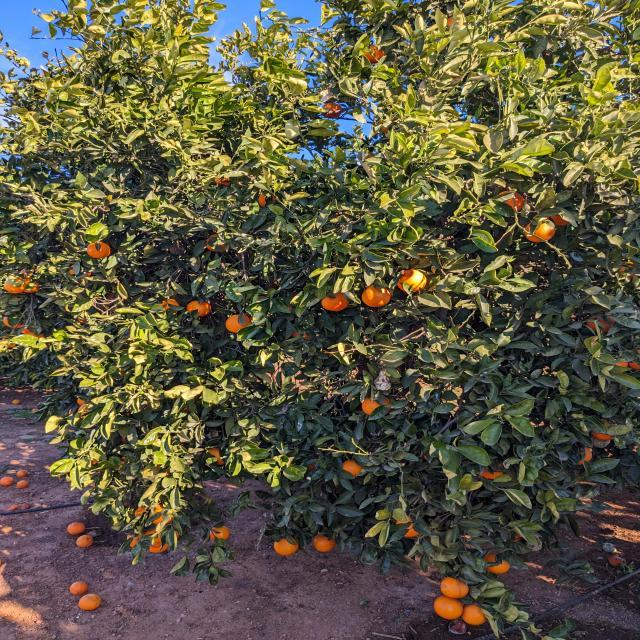Jeruk Sudah Matang: (523, 219, 554, 244), (438, 576, 469, 598), (436, 596, 464, 620), (205, 234, 234, 256), (362, 287, 390, 308), (592, 418, 618, 439), (398, 270, 424, 291), (362, 398, 390, 416), (484, 553, 509, 573), (273, 536, 298, 556), (85, 242, 111, 259), (464, 604, 484, 626), (152, 504, 172, 526), (320, 294, 346, 310), (68, 263, 94, 279), (4, 277, 27, 294), (498, 192, 522, 208), (313, 535, 335, 552), (227, 316, 250, 332), (187, 300, 210, 316), (144, 530, 166, 546), (342, 460, 362, 476), (210, 526, 230, 542), (364, 46, 384, 62), (478, 468, 504, 480), (323, 102, 342, 118), (208, 448, 224, 466), (23, 332, 48, 342), (3, 315, 23, 327), (0, 334, 17, 348), (579, 446, 592, 464), (550, 213, 568, 225), (160, 298, 178, 310), (73, 406, 89, 418), (258, 192, 272, 204), (212, 177, 230, 186), (135, 506, 148, 517), (78, 396, 90, 404)
